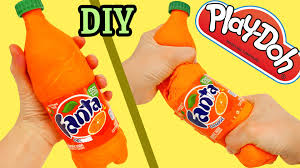fanta: (24, 1, 117, 166)
